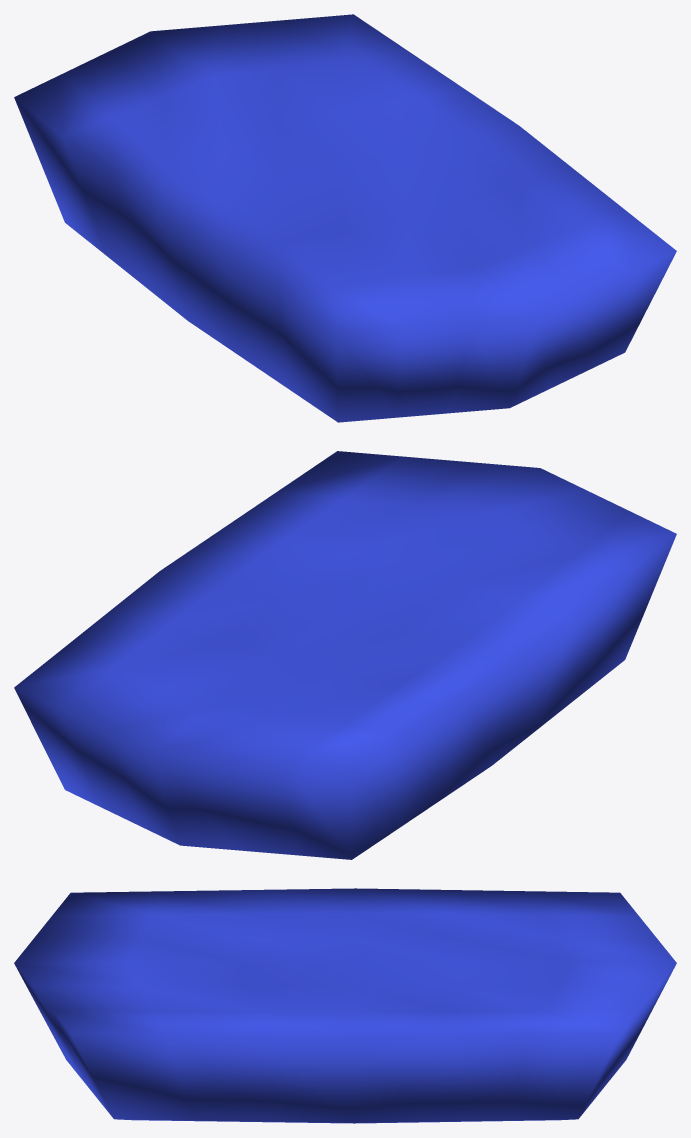
The model's file is BathWater.fbx.
3 views of the same model, one above another, from view 1: azimuth 30°, elevation 25°; view 2: azimuth 150°, elevation 25°; view 3: azimuth 270°, elevation 25° (orthographic). The views are drawn at different scales.
Parts seen in each view (by area): view 1: BathWater; view 2: BathWater; view 3: BathWater.
Part boxes in pixels (box(x1,y1,x2,y2)): BathWater: box(14, 14, 676, 422); BathWater: box(14, 451, 676, 859); BathWater: box(14, 888, 676, 1123).
Size of the model in its own units: 156 by 50.02 by 293.
